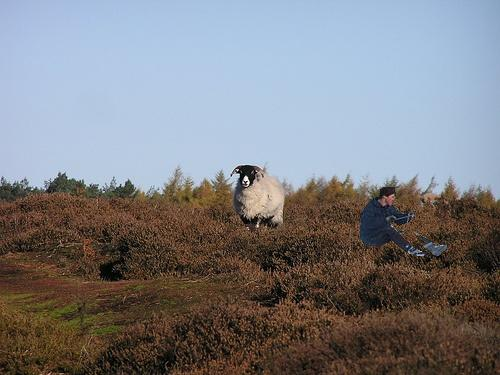tampered: (361, 188, 447, 256)
